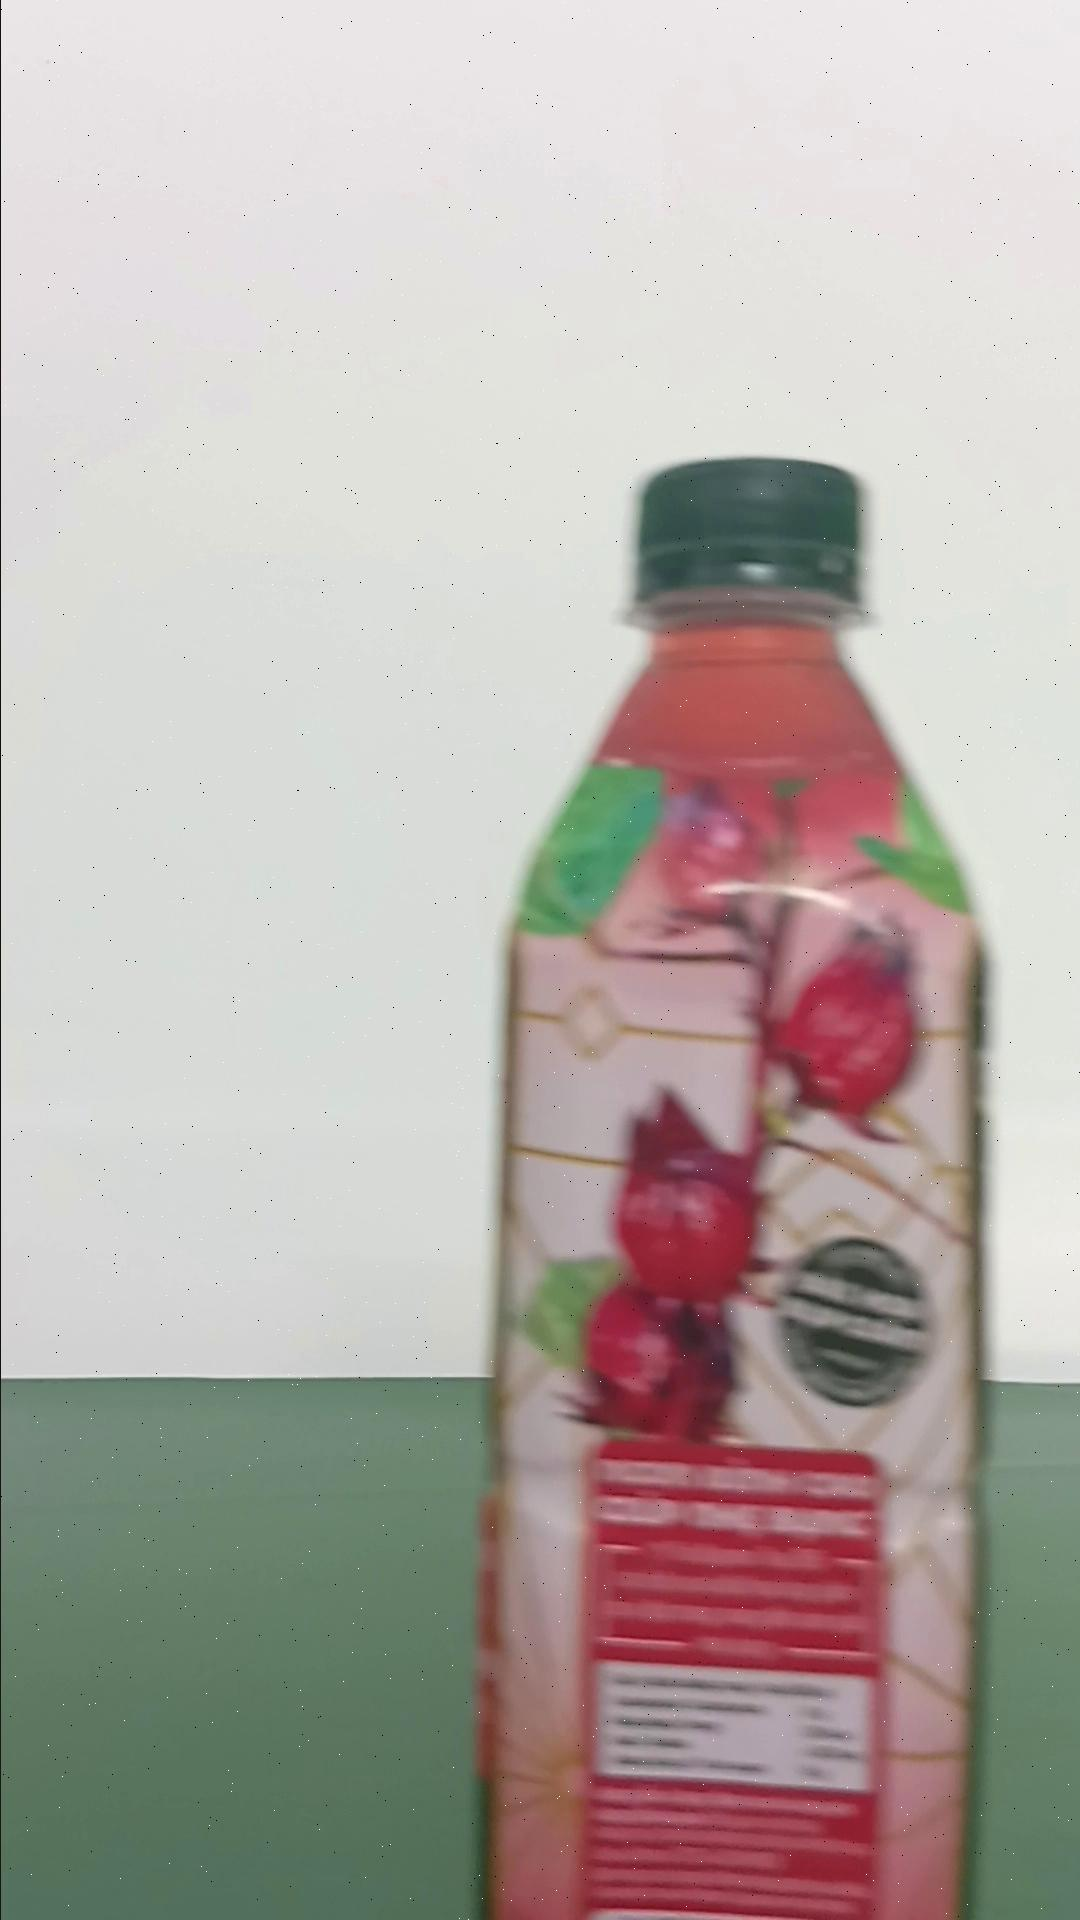khong loi: (473, 454, 992, 1915)
